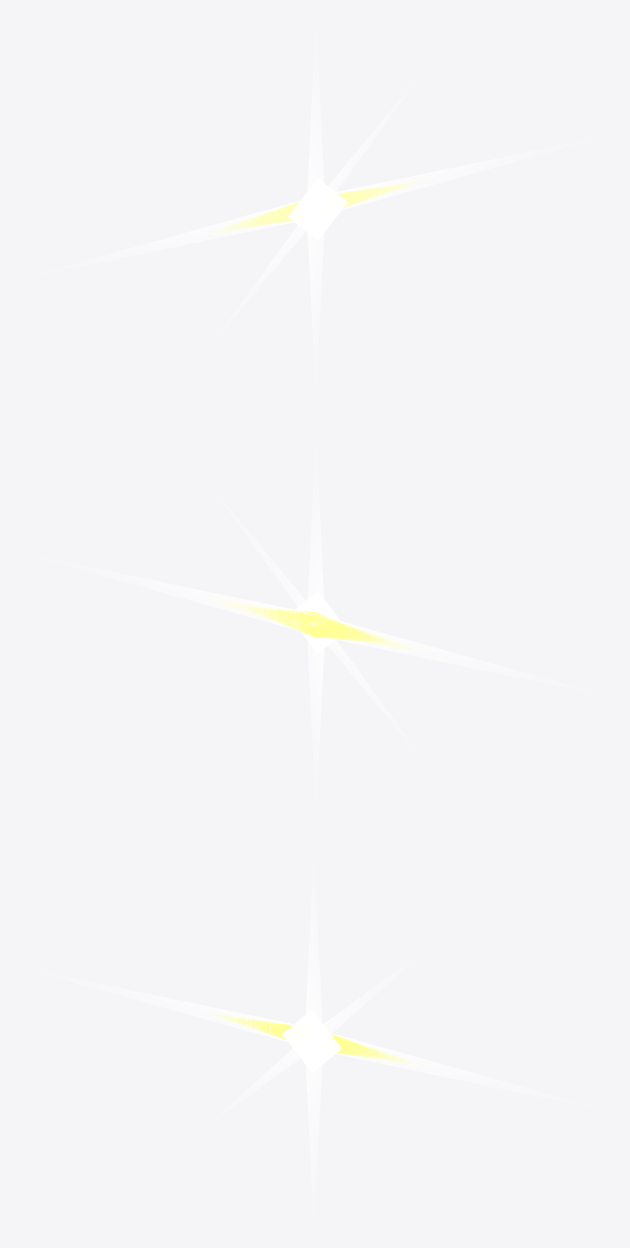
The model's file is metal_contact_polish.glb.
3 views of the same model, one above another, from view 1: azimuth 30°, elevation 25°; view 2: azimuth 150°, elevation 25°; view 3: azimuth 330°, elevation 25° (orthographic).
Parts seen in each view (by area): view 1: core_star, spark_10, spark_02; view 2: core_star, spark_07, spark_06, spark_00, spark_01, spark_11; view 3: core_star, spark_00, spark_04.
Part boxes in pixels (box(x1,y1,x2,y2)): core_star: box(63, 49, 567, 366); spark_10: box(216, 181, 416, 230); spark_02: box(228, 185, 399, 228); core_star: box(63, 465, 568, 782); spark_07: box(277, 619, 377, 641); spark_06: box(254, 608, 337, 638); spark_00: box(248, 606, 392, 644); spark_01: box(307, 614, 364, 638); spark_11: box(251, 608, 368, 635); core_star: box(62, 881, 566, 1198); spark_00: box(240, 1019, 392, 1058); spark_04: box(226, 1016, 401, 1061).
Size of the model in its own units: 0.07 by 0.043 by 0.0006.
